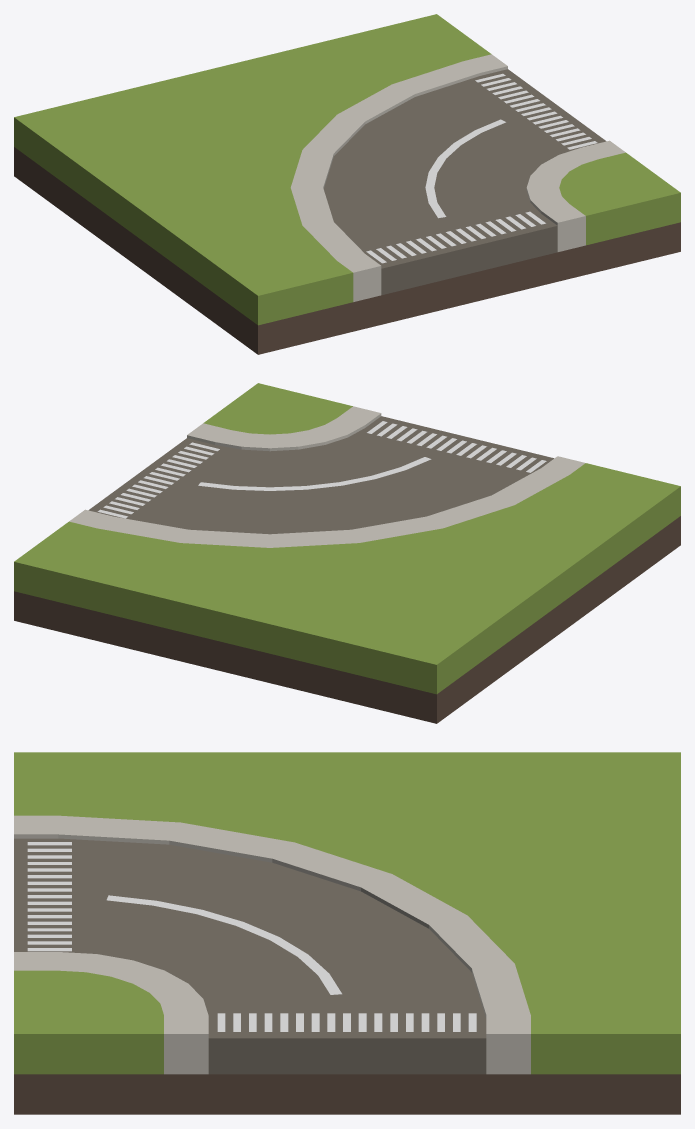
The model's file is mainroad-tile-curve.fbx.
3 renders of one model, top to bottom at view 1: azimuth 30°, elevation 25°; view 2: azimuth 150°, elevation 25°; view 3: azimuth 270°, elevation 25°, orthographic. The views are drawn at different scales.
Visible parts, largest first — view 1: mainroad-tile-curve; view 2: mainroad-tile-curve; view 3: mainroad-tile-curve.
Boxes of the visible parts, x1,y1,x2,y2 form: mainroad-tile-curve: (14, 14, 680, 354); mainroad-tile-curve: (14, 383, 680, 723); mainroad-tile-curve: (14, 752, 680, 1114).
Bounding box in the file's own units: 3000 × 400 × 3000.
